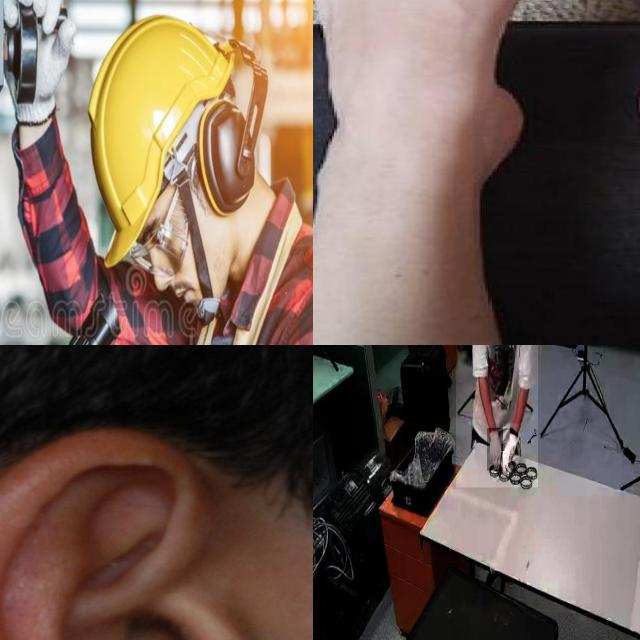Barefoots: (313, 0, 559, 211)
Ear-protection: (99, 42, 268, 319)
No_Ear-Protection: (0, 423, 259, 640)
hand_glove: (503, 423, 519, 475), (487, 428, 503, 471)
person: (455, 345, 538, 488)
